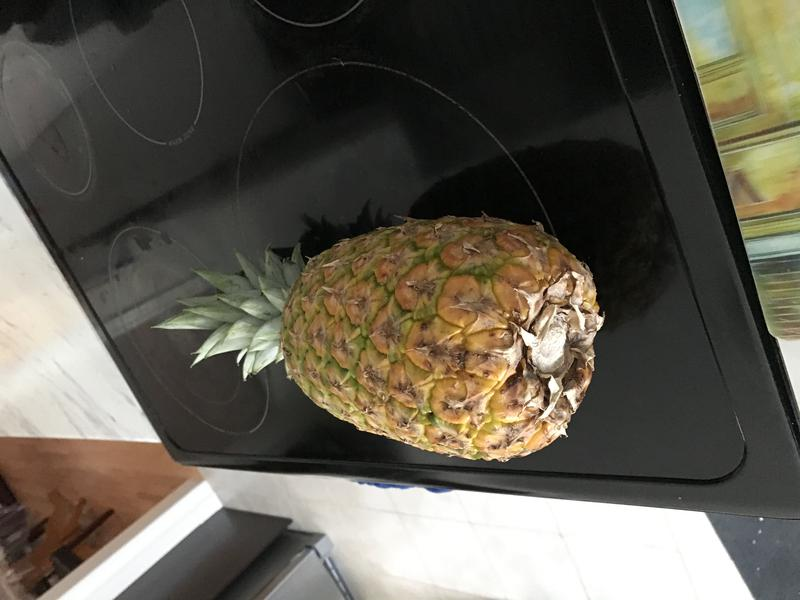pineapple: (141, 204, 613, 475)
